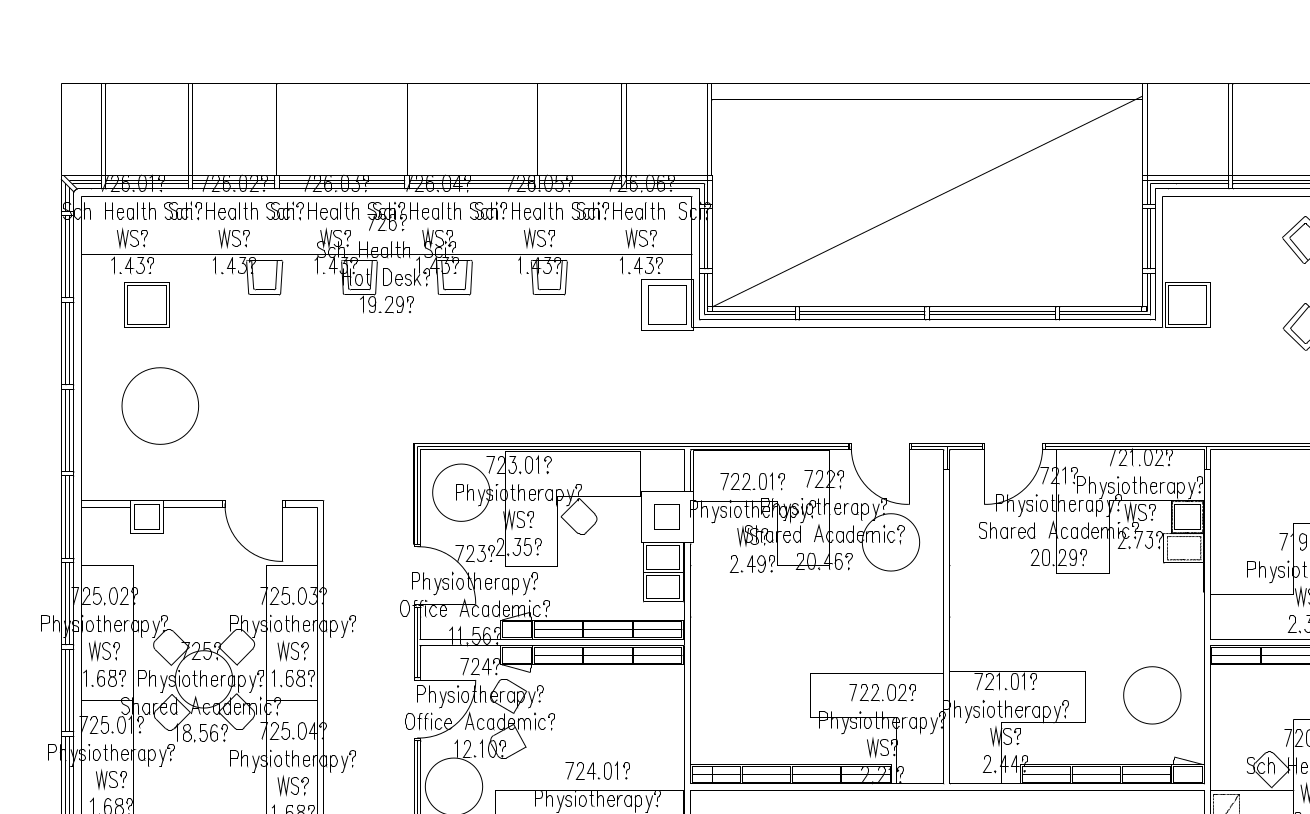door: (223, 501, 291, 565), (416, 547, 484, 611), (410, 675, 478, 739), (845, 441, 913, 505), (976, 443, 1044, 507)
